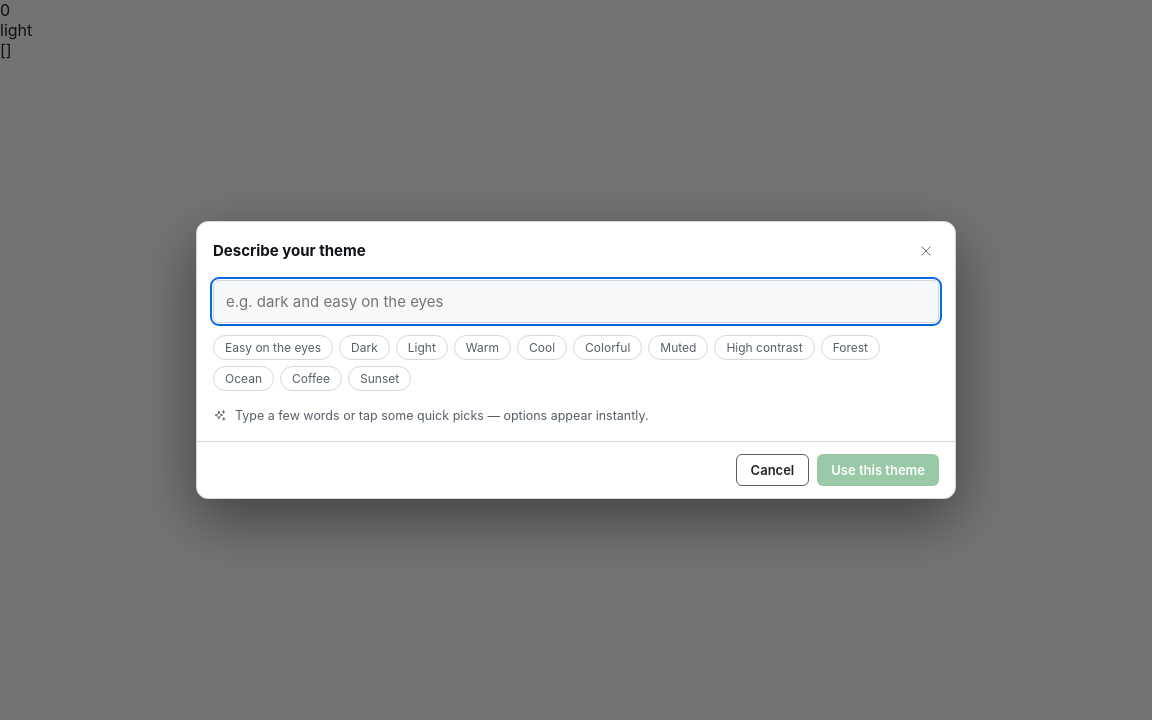
it: DescribeThemeDialog › clearing the box clears the options
Type "dark" into the field named "Describe the theme you want" at (576, 301), box [213,280,939,323]
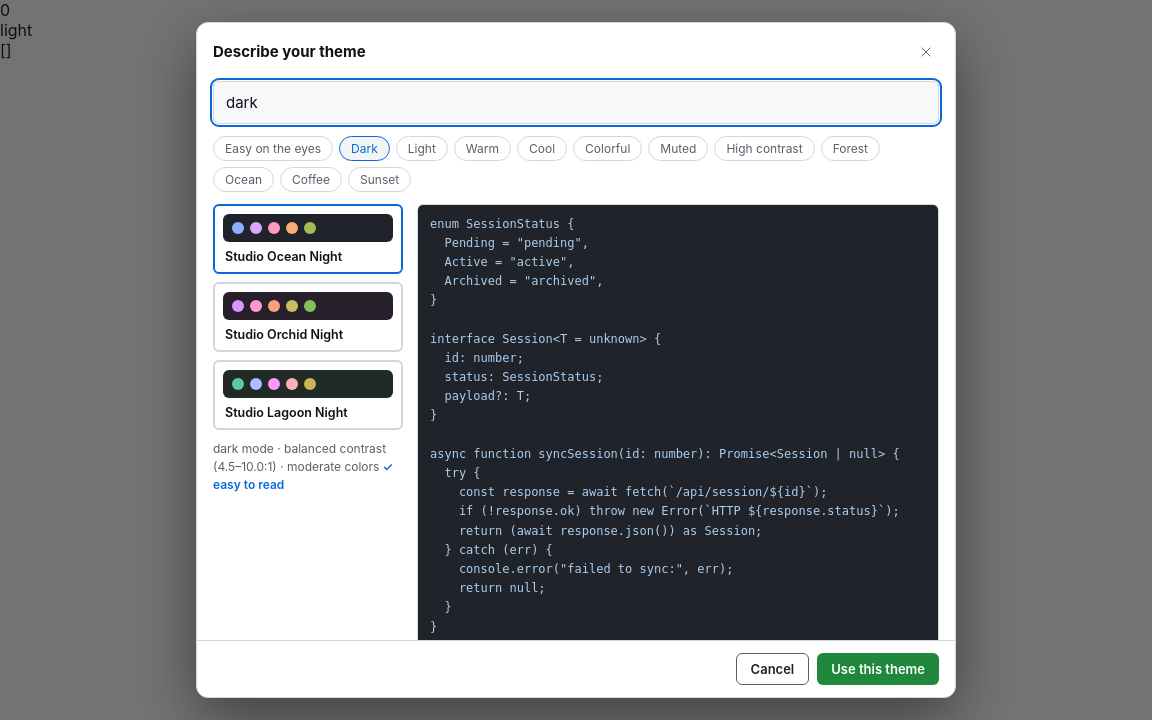
Clear the field named "Describe the theme you want" at (576, 102), box [213,81,939,124]
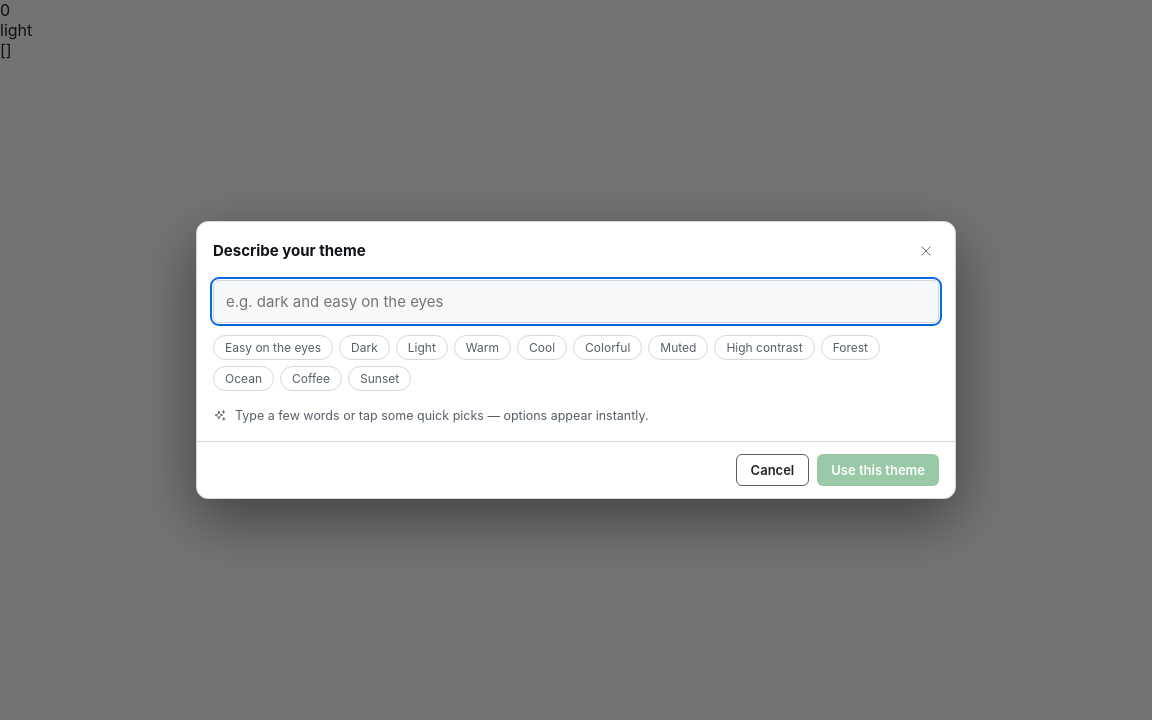
Now no radio buttons are shown
